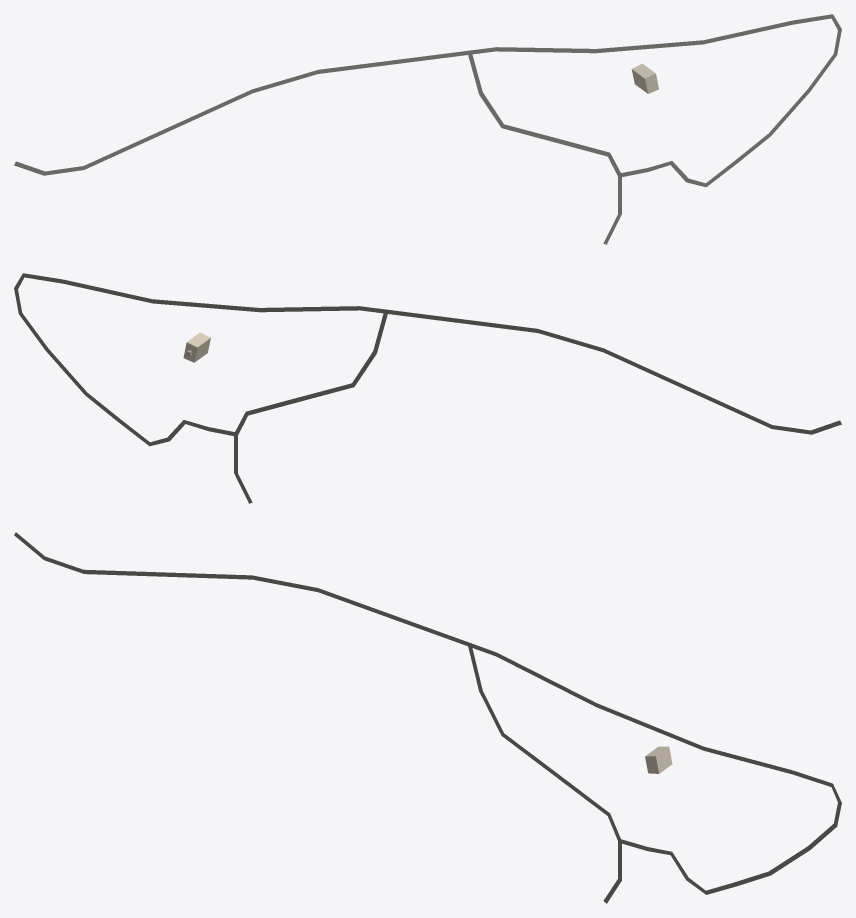
File: historic-palestine-13_23_3545_3170.glb
3 renders of one model, top to bottom at view 1: azimuth 30°, elevation 25°; view 2: azimuth 150°, elevation 25°; view 3: azimuth 330°, elevation 25°, orthographic.
Visible parts, largest first — view 1: Road, Road .003, Road .001, Road .002, Building_; view 2: Road, Road .003, Road .001, Road .002, Building_; view 3: Road, Road .003, Road .001.
Part boxes in pixels (x1=…): Road: x1=14, y1=20, x2=792, y2=175; Road .003: x1=620, y1=14, x2=841, y2=187; Road .001: x1=468, y1=52, x2=563, y2=144; Road .002: x1=562, y1=140, x2=621, y2=244; Building_: x1=631, y1=63, x2=658, y2=93; Road: x1=63, y1=279, x2=841, y2=434; Road .003: x1=14, y1=273, x2=235, y2=446; Road .001: x1=292, y1=311, x2=387, y2=403; Road .002: x1=234, y1=399, x2=293, y2=503; Building_: x1=183, y1=332, x2=210, y2=362; Road: x1=14, y1=532, x2=792, y2=774; Road .003: x1=620, y1=770, x2=841, y2=894; Road .001: x1=468, y1=645, x2=563, y2=781.
Bounding box in the file's own units: 268 × 75.81 × 8.7.
